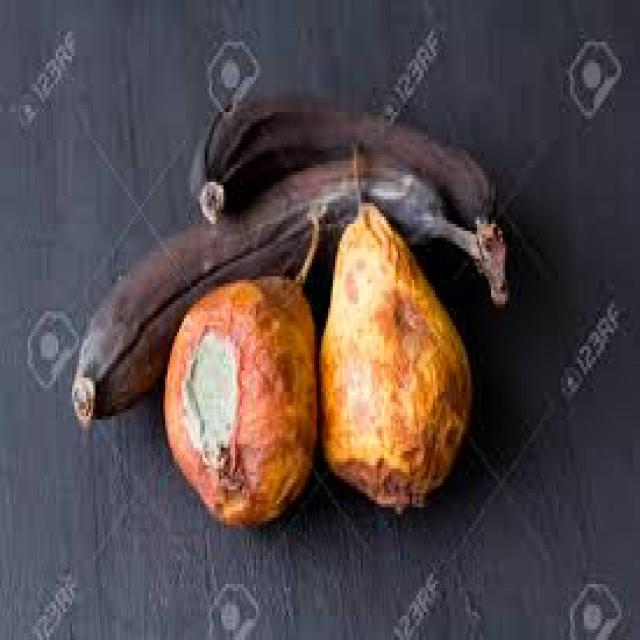organic waste: (70, 147, 505, 423), (188, 87, 502, 273), (317, 136, 470, 514), (161, 206, 314, 528)
